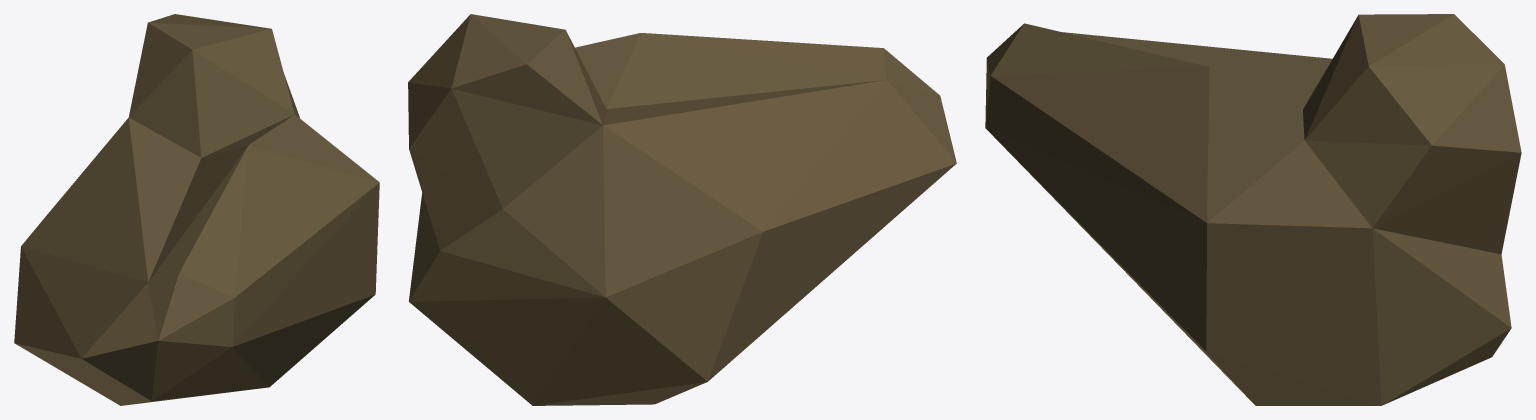
File: ant-cox-hind-left.dae
3 renders of one model, left to right at view 1: azimuth 30°, elevation 25°; view 2: azimuth 150°, elevation 25°; view 3: azimuth 270°, elevation 25°, orthographic. The views are drawn at different scales.
Parts seen in each view (by area): view 1: ant-cox-hind-left; view 2: ant-cox-hind-left; view 3: ant-cox-hind-left.
Boxes of the visible parts, x1,y1,x2,y2 form: ant-cox-hind-left: (14,14,379,405); ant-cox-hind-left: (408,14,956,405); ant-cox-hind-left: (985,14,1521,405).
Size of the model in its own units: 1.93 by 2.1 by 1.71.
